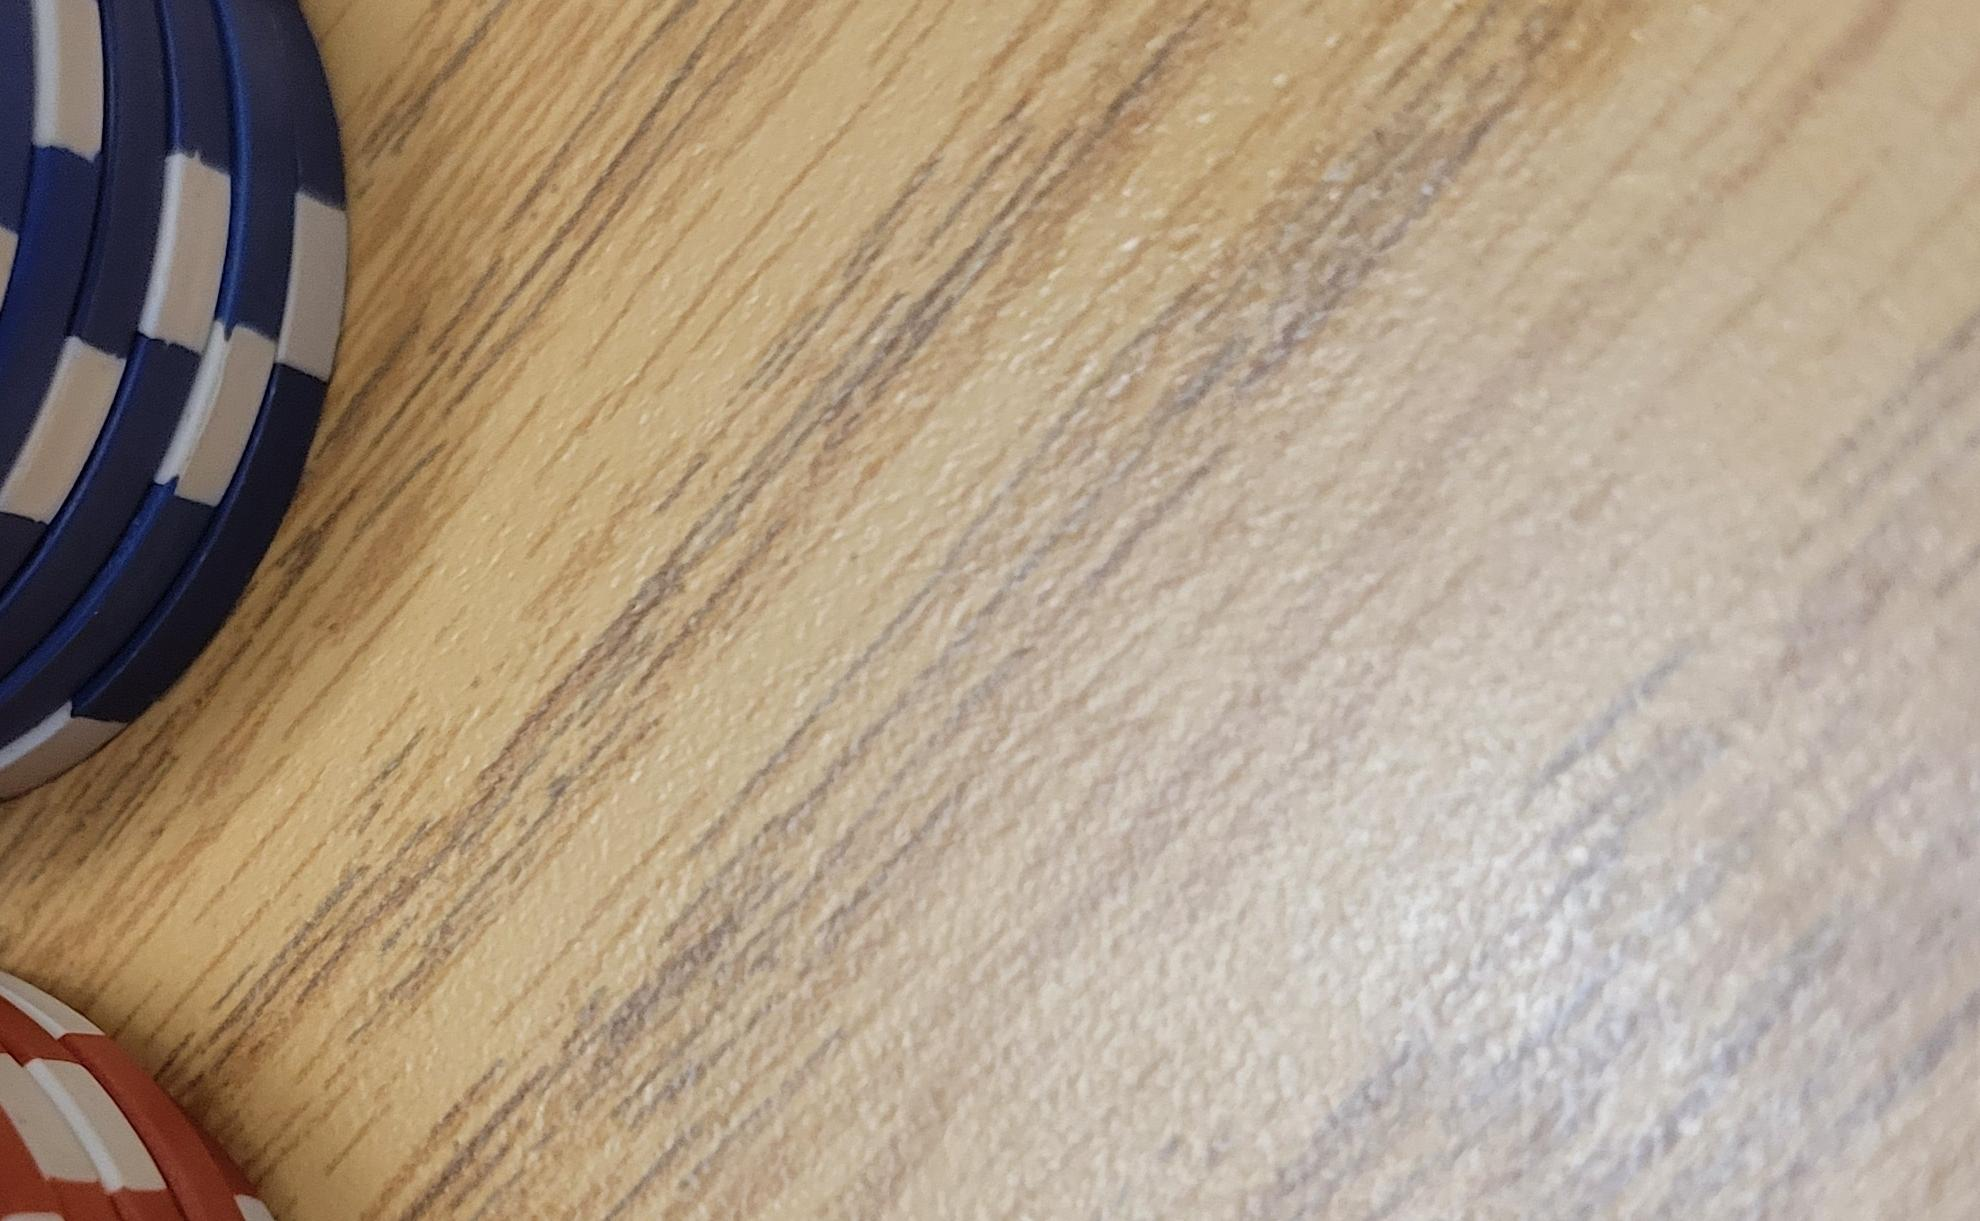Chip: (1, 191, 989, 1221)
